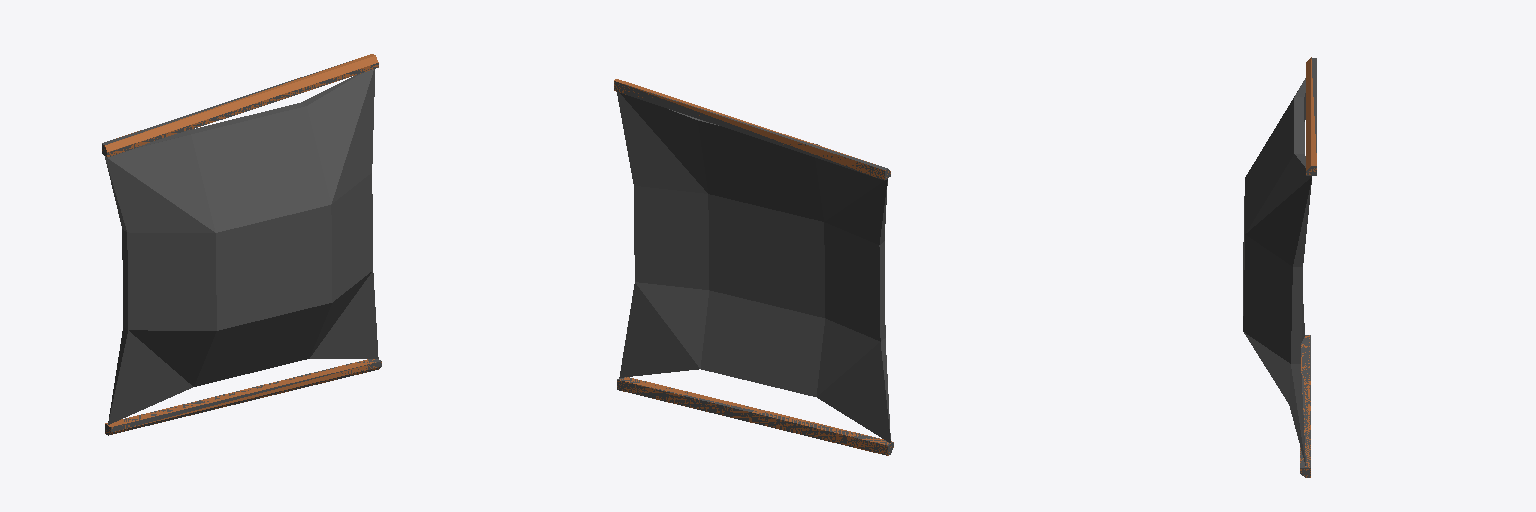
Rendered from sail_left.obj.
3 renders of one model, left to right at view 1: azimuth 30°, elevation 25°; view 2: azimuth 150°, elevation 25°; view 3: azimuth 270°, elevation 25°, orthographic.
Parts seen in each view (by area): view 1: sail_back; view 2: sail_back; view 3: sail_back.
Boxes of the visible parts, x1=… form: sail_back: x1=102, y1=54, x2=381, y2=435; sail_back: x1=614, y1=79, x2=893, y2=455; sail_back: x1=1243, y1=57, x2=1316, y2=477.
Bounding box in the file's own units: 2.71 × 2.97 × 0.6435.